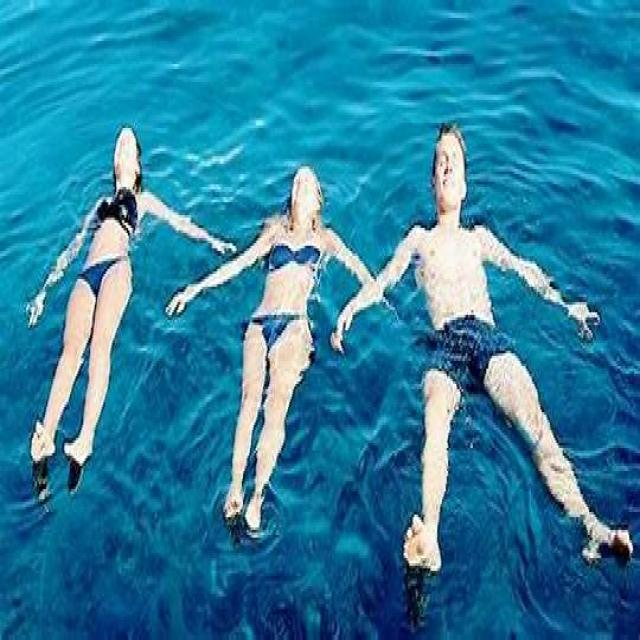swimming: (388, 57, 549, 590), (205, 141, 353, 545), (6, 112, 154, 490)
